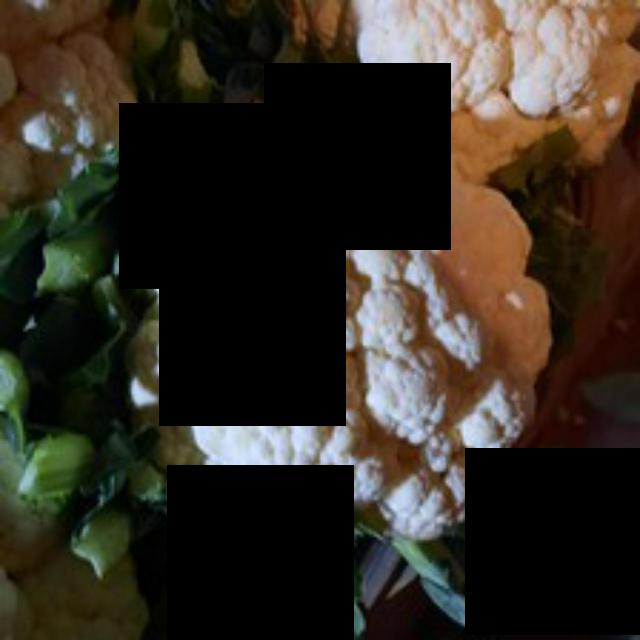cauliflower: (123, 120, 562, 541)
